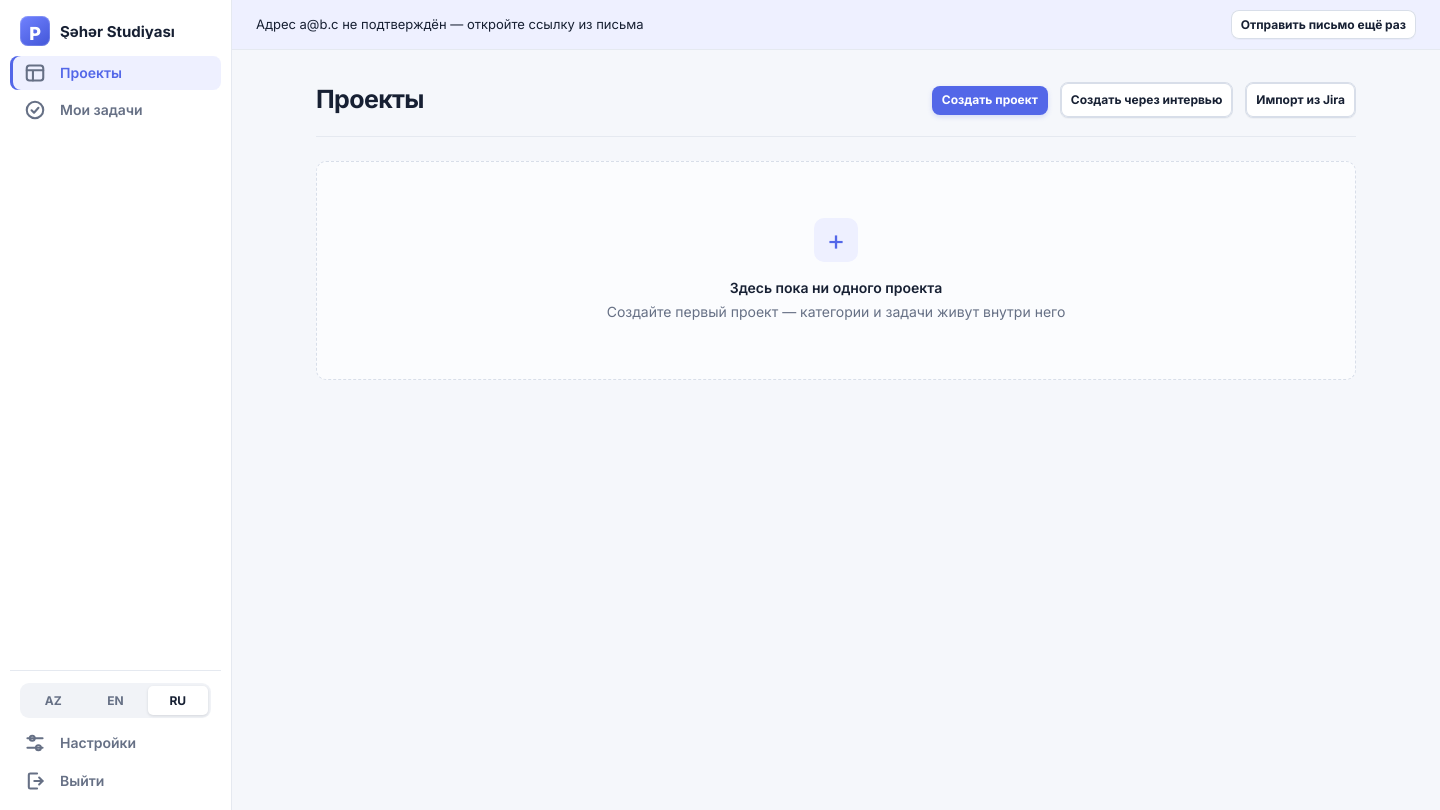
Test case: полоска «адрес не подтверждён» › объясняет отказ сервера словами, а не кодом
Click the button "Отправить письмо ещё раз".
click(1323, 24)  # box [1231,10,1416,39]
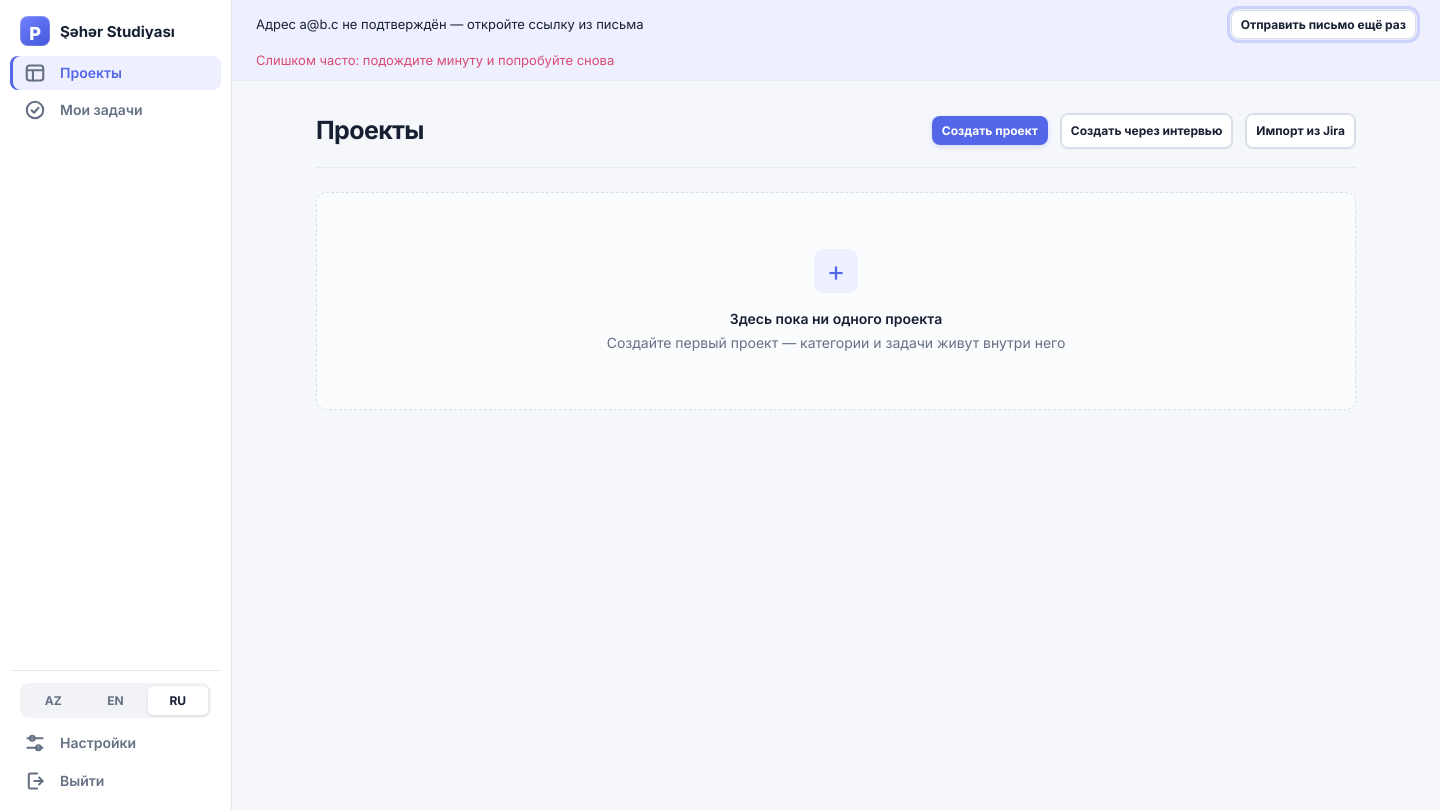
Expected: the text "Слишком часто: подождите минуту и попробуйте снова" is shown, [256,52,614,68]
